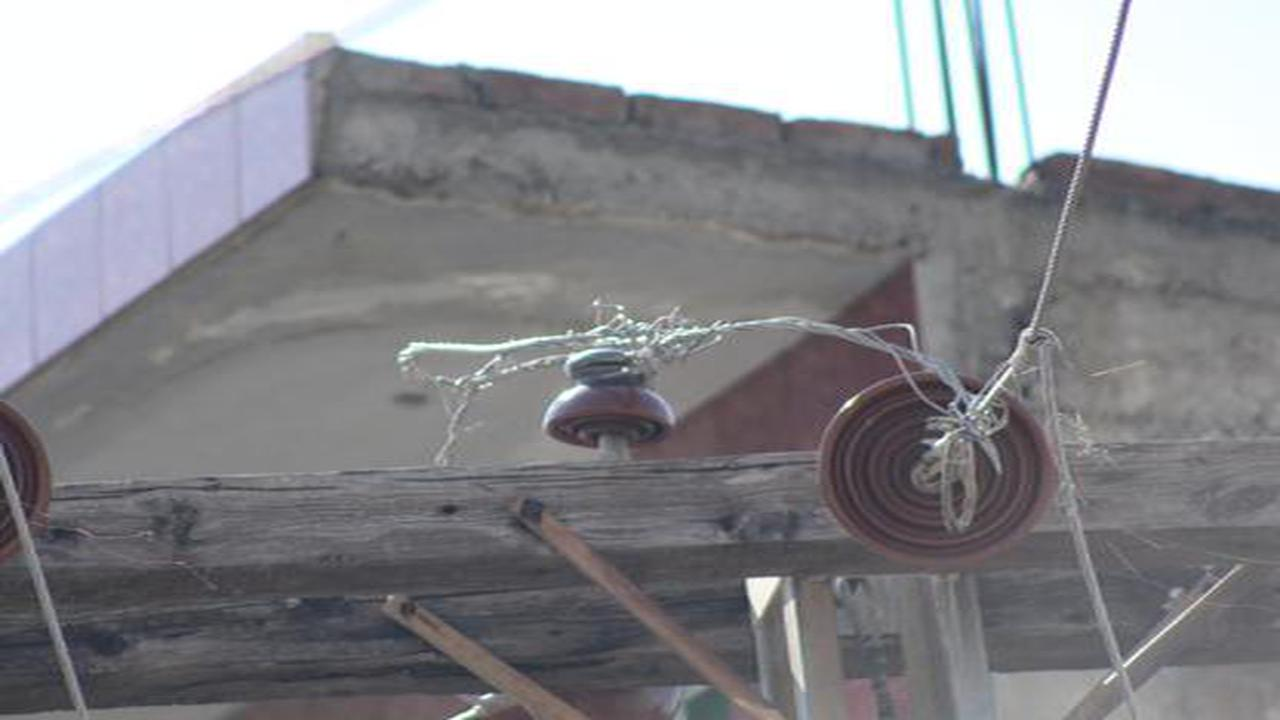insulator_disc: (811, 363, 1067, 584)
insulator_pin: (535, 338, 690, 463)
